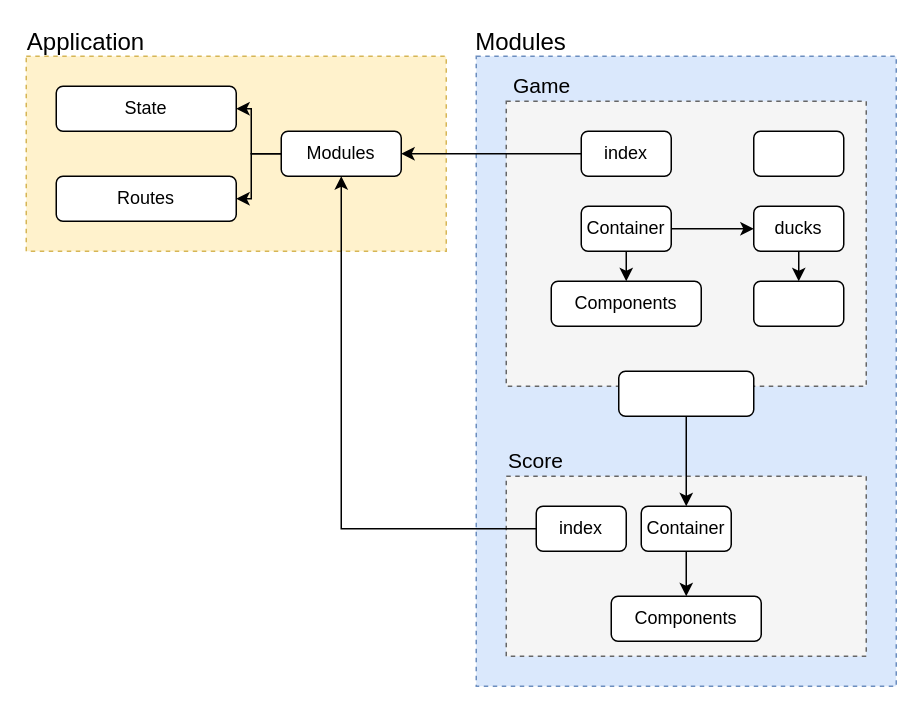
Image size: 923x713. Some labels were removed from this diagram. The shapes that lost their labels are listed below. From the top down, each one's box as (x1, y1, x2, y2) in pixels, then its label:
(752, 130, 844, 176): types
(752, 280, 844, 326): service
(617, 370, 754, 416): Shared
